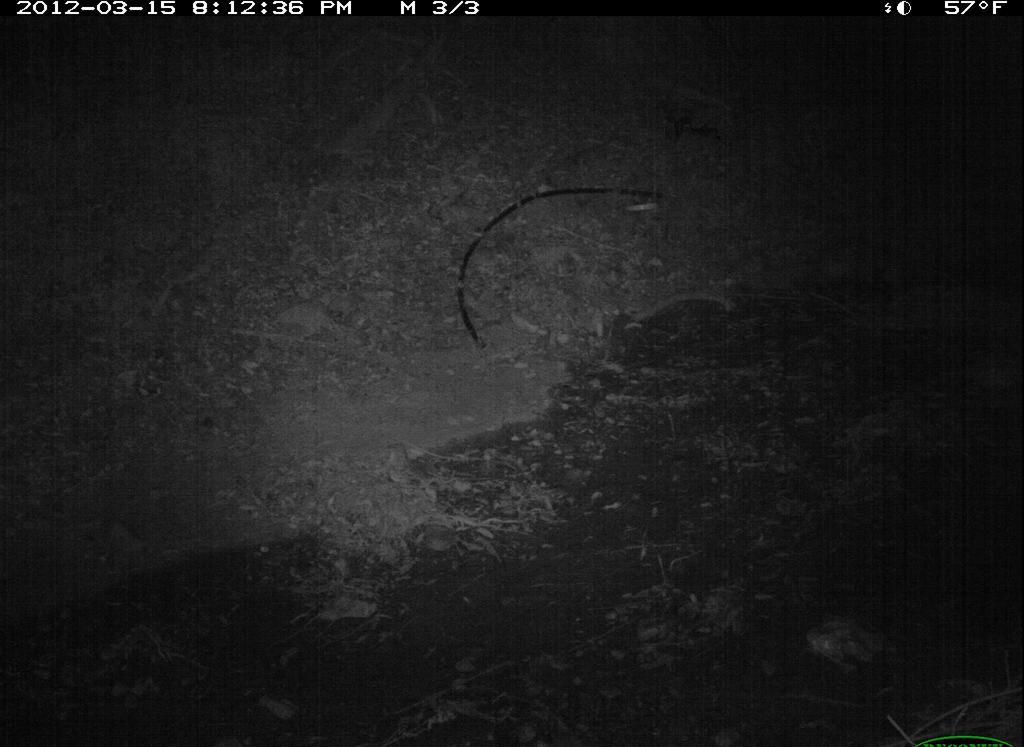opossum: (794, 223, 912, 309)
